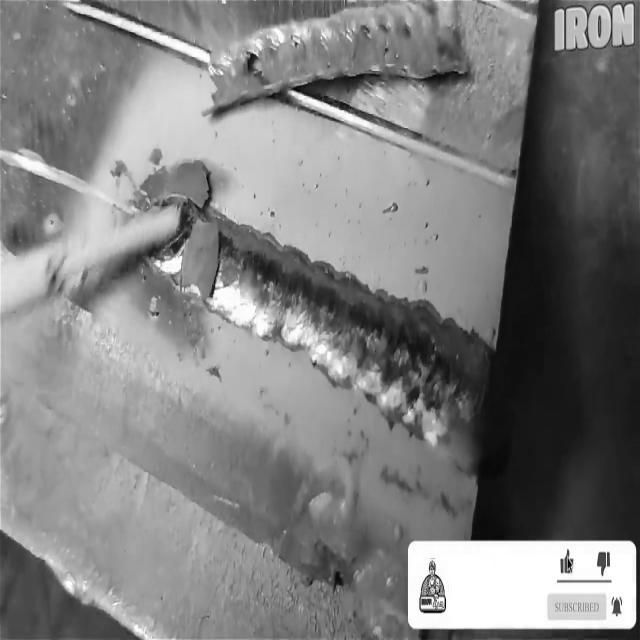Good Weld: (236, 244, 452, 420)
